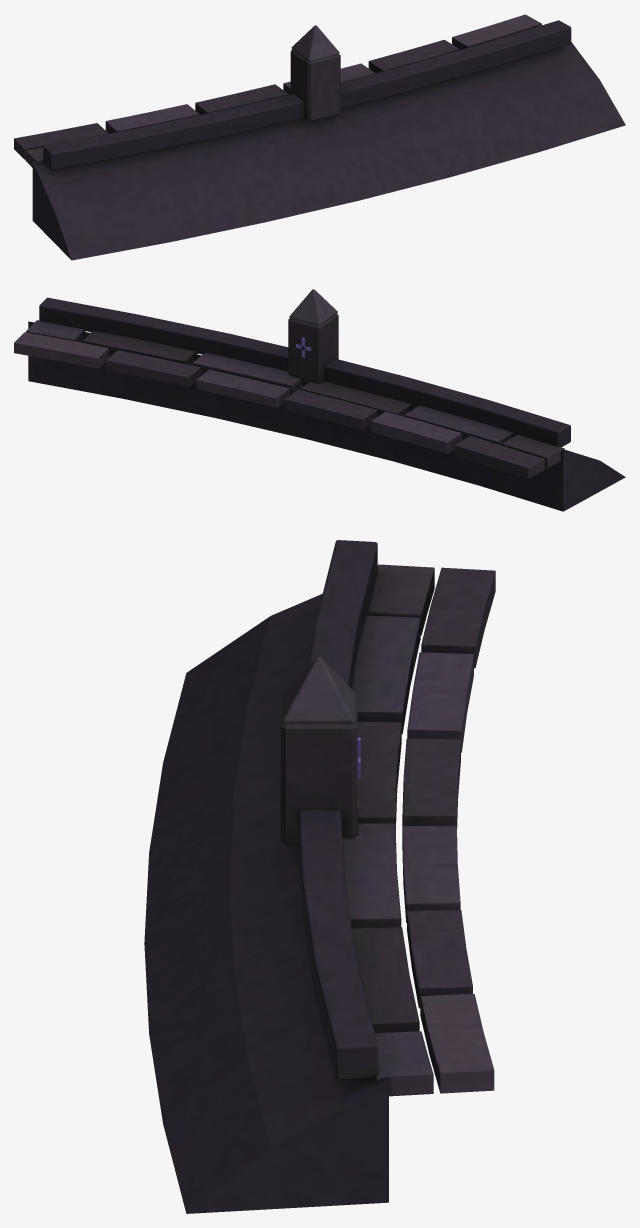
File: kit_rimseg.glb
3 renders of one model, top to bottom at view 1: azimuth 30°, elevation 25°; view 2: azimuth 150°, elevation 25°; view 3: azimuth 270°, elevation 25°, orthographic. The views are drawn at different scales.
Parts seen in each view (by area): view 1: lathe; view 2: lathe; view 3: lathe.
Part boxes in pixels (box(x1,y1,x2,y2)): lathe: box(14, 14, 625, 260); lathe: box(14, 289, 625, 511); lathe: box(144, 540, 495, 1213).
Bounding box in the file's own units: 15.04 × 3.72 × 4.13.
Materials: 1 (1 with a texture image).
